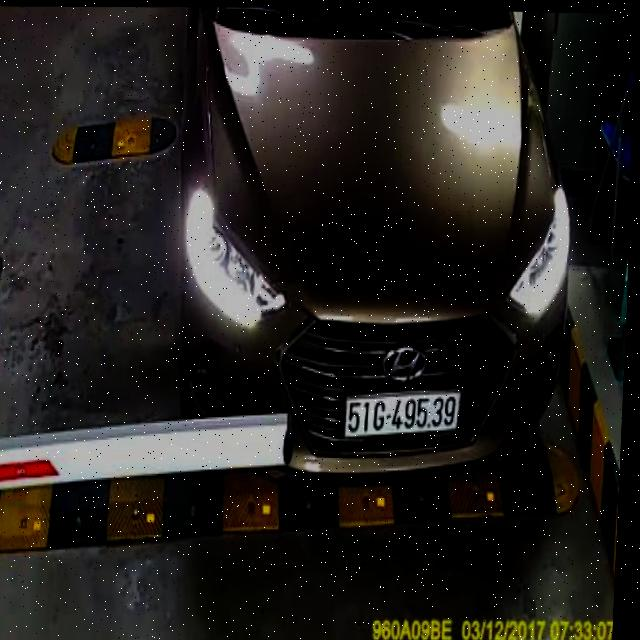car: (154, 4, 596, 499)
plate: (341, 386, 460, 440)
